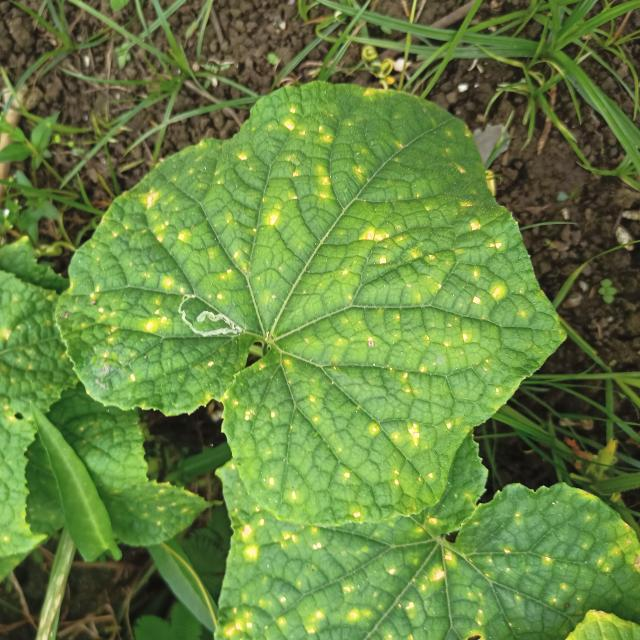disease_cucumber: (100, 75, 530, 508), (214, 488, 586, 636)
